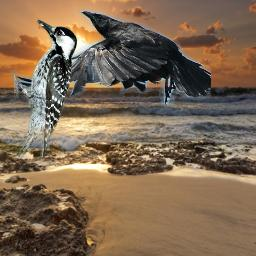Crow: (10, 9, 211, 107)
Woodpecker: (14, 18, 77, 161)
